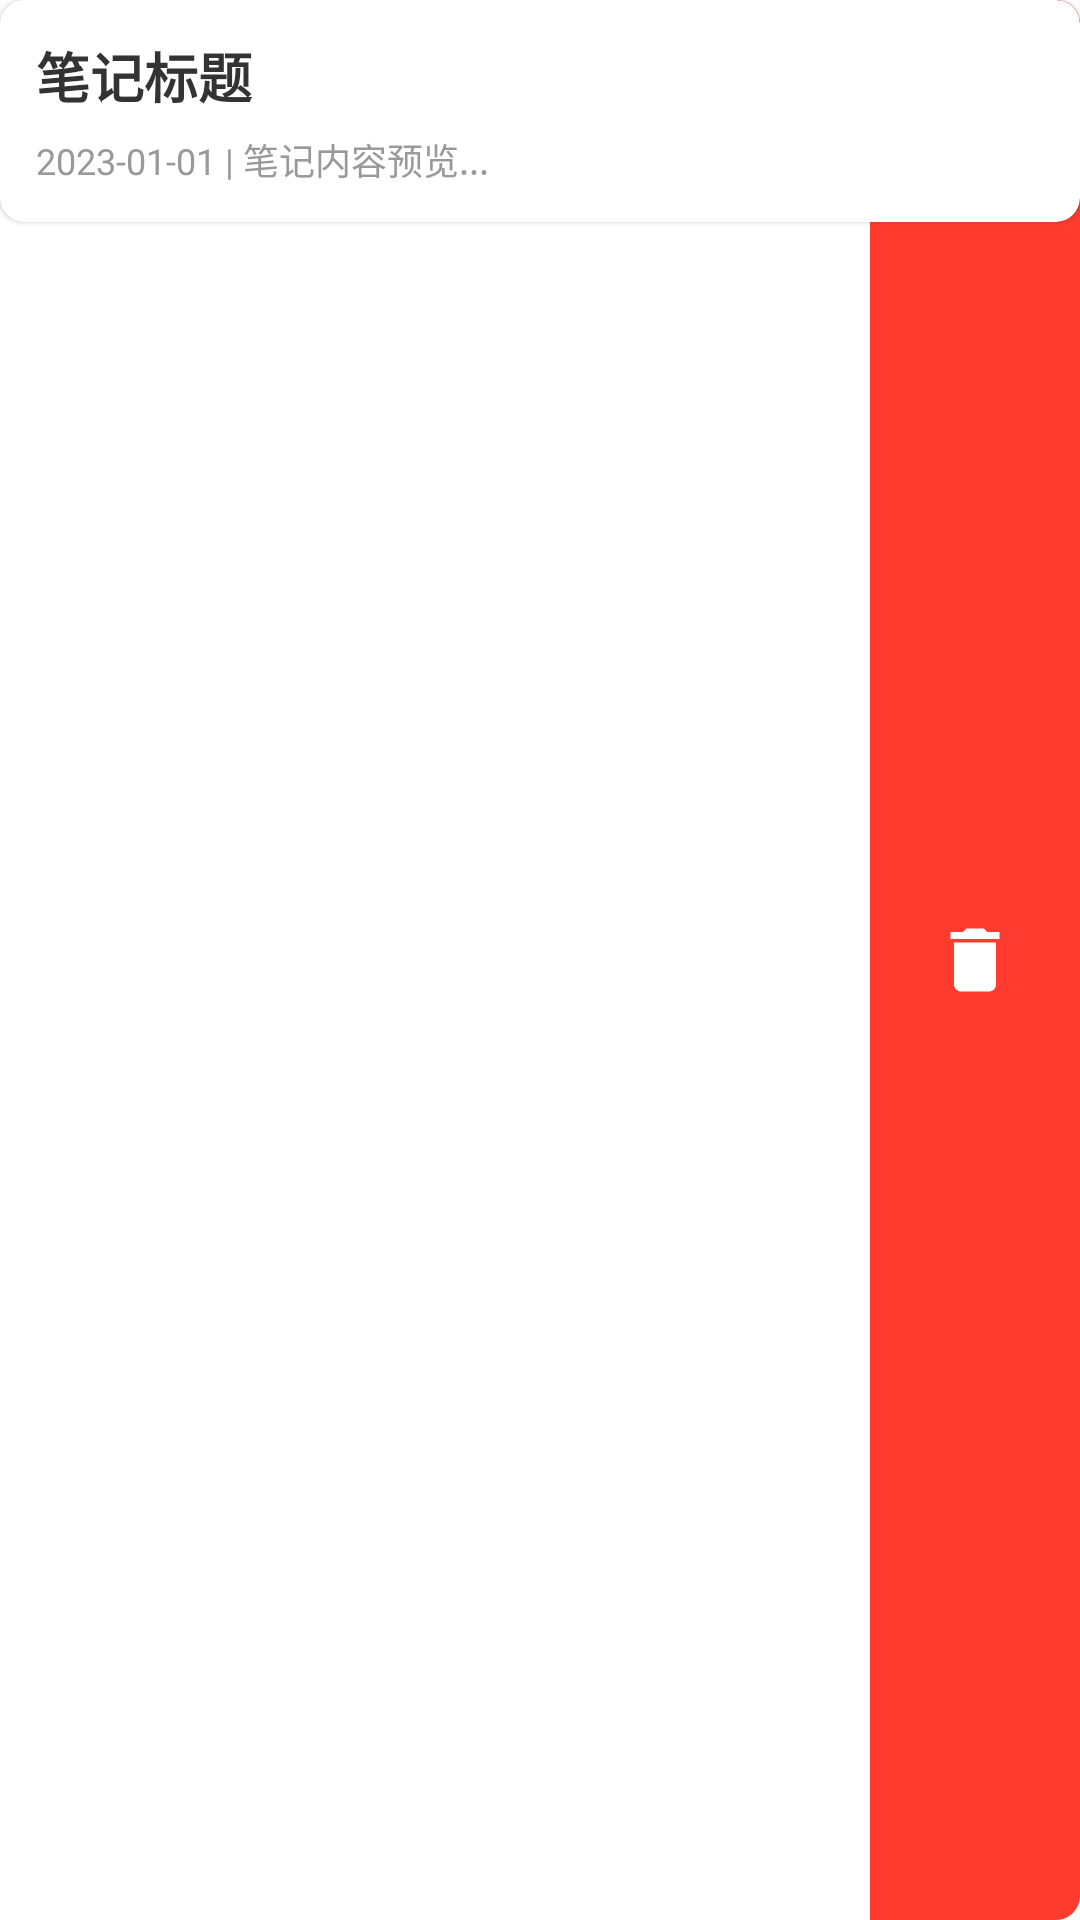

Screen size 1080 × 1920. Icon name, then its box in pixels as bbox=(x1, y1, x2, y2):
delete: bbox=(950, 928, 1000, 992)
